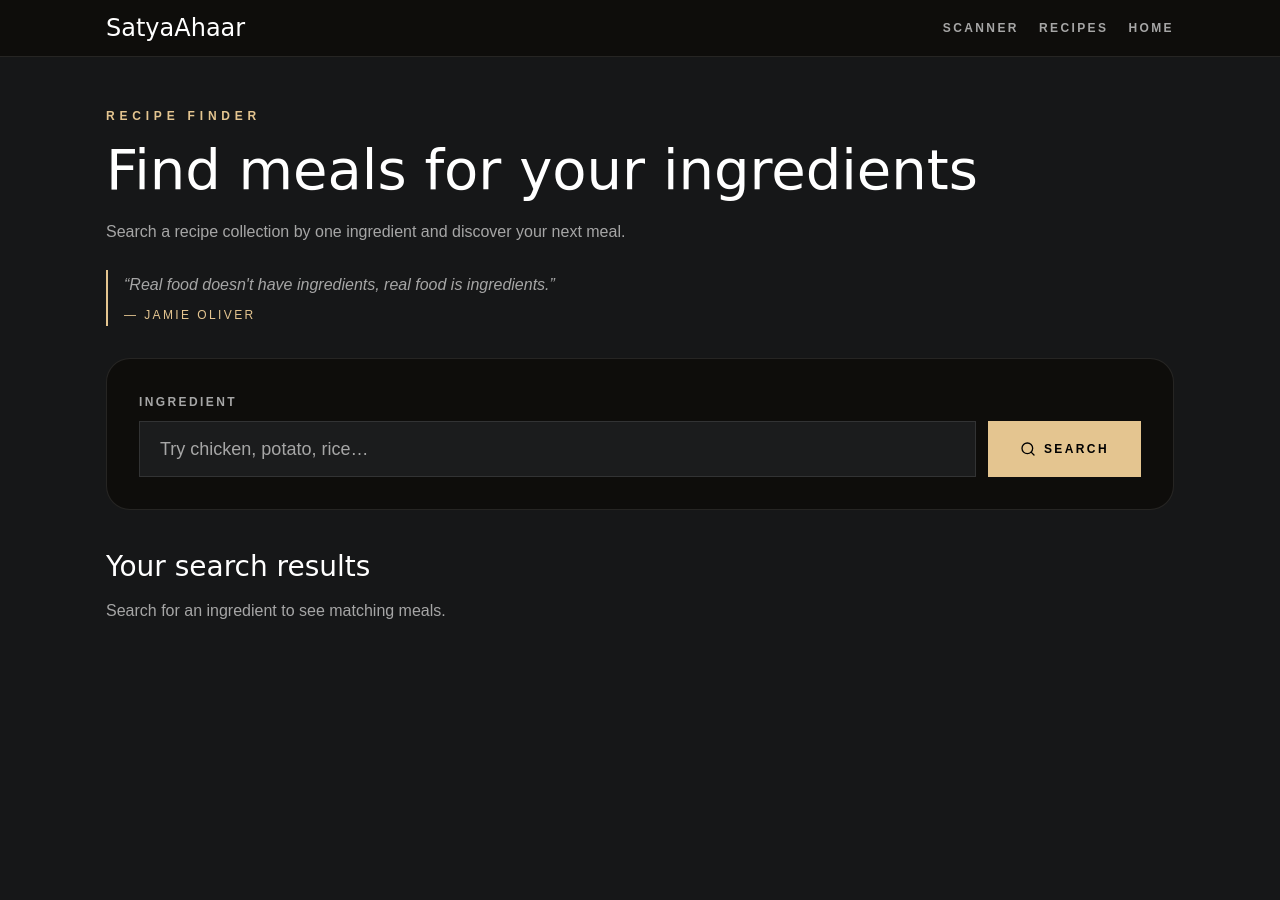
Test: RecipeSearchPage › shows an empty state when no meals match
This screenshot has width=1280, height=900.
Step 1. Type "dragonfruit" into the field labelled "Ingredient" → [557, 449], box x1=139 y1=421 x2=976 y2=477
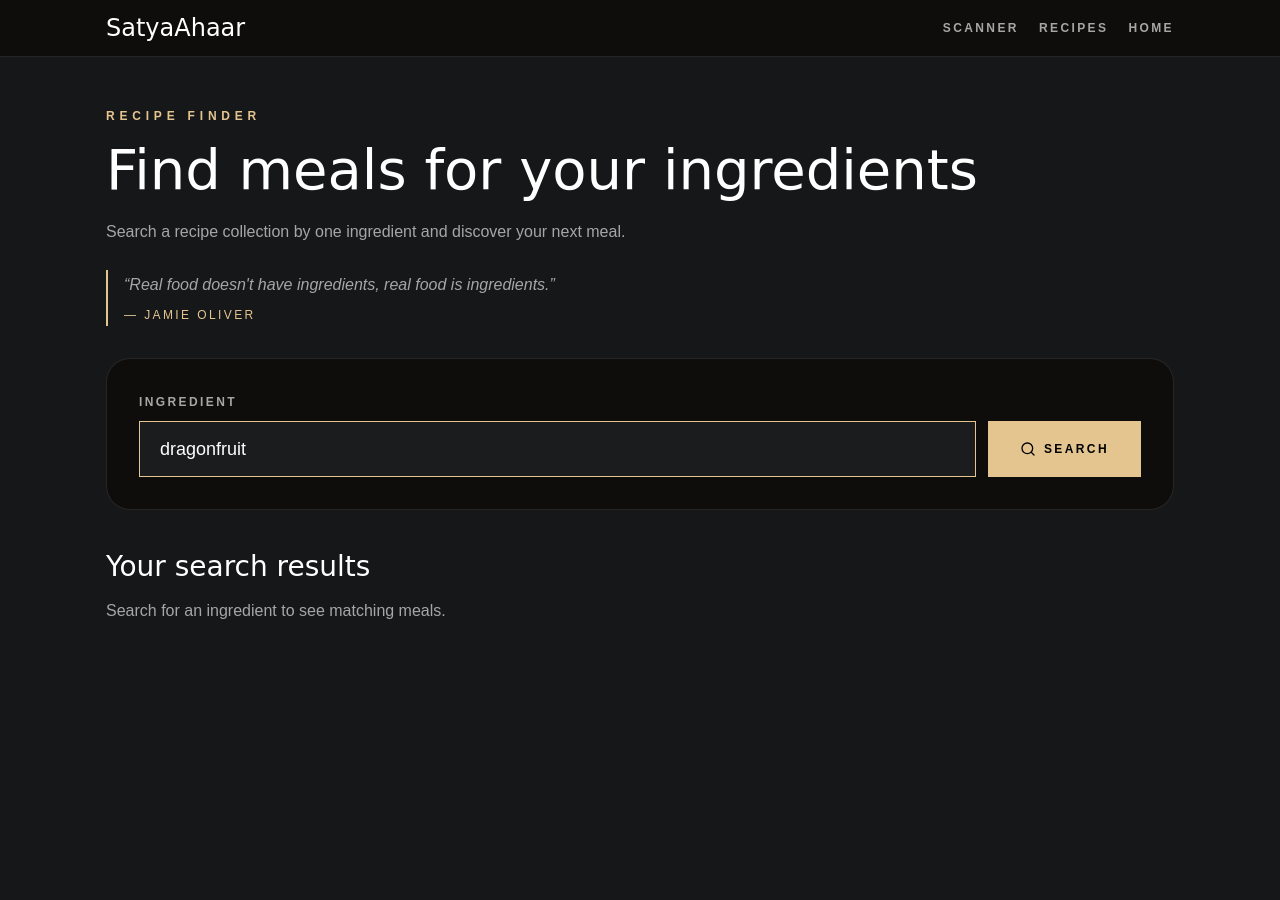
Step 2. Click the button "Search" → [1064, 449], box x1=988 y1=421 x2=1141 y2=477
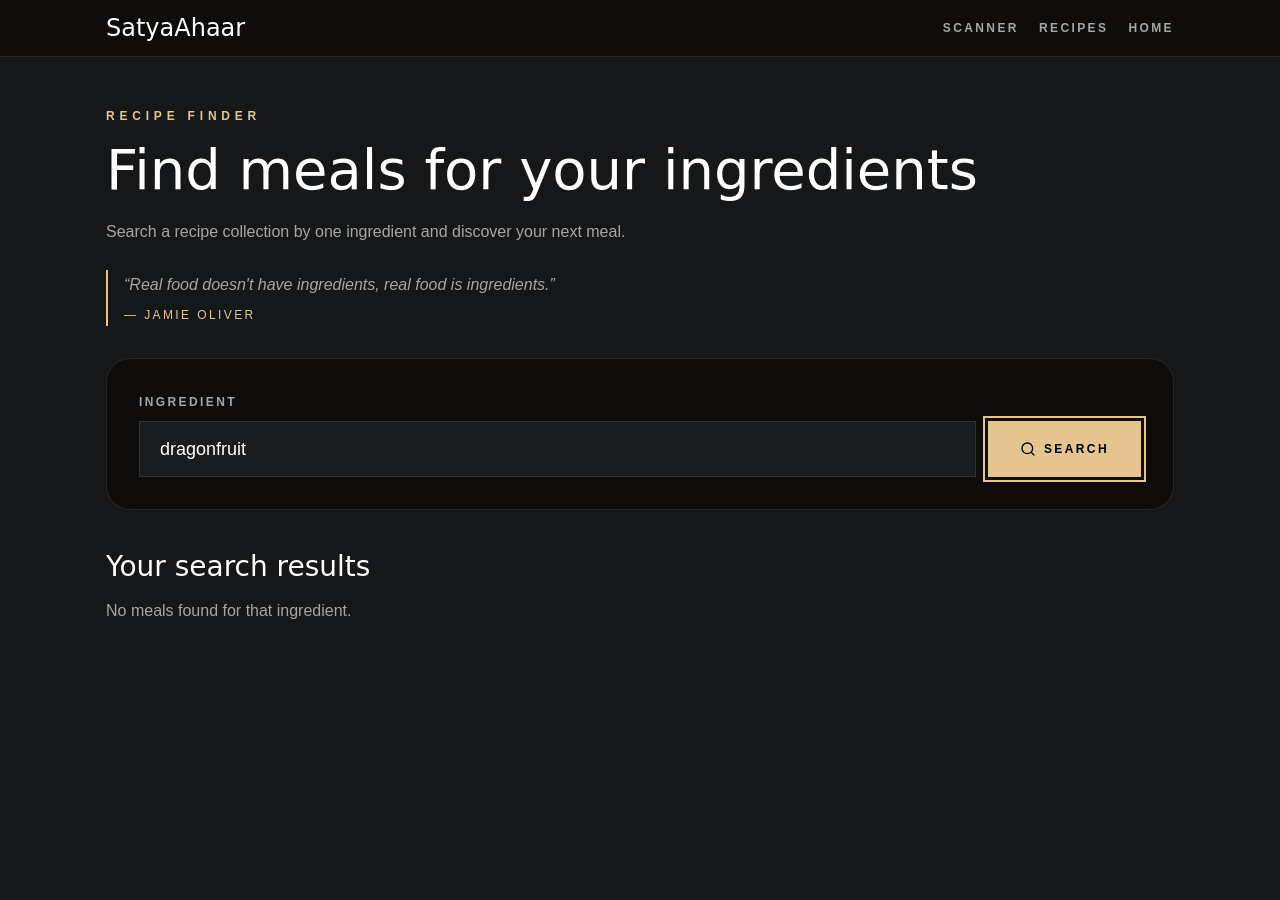
Expected: the text "No meals found for that ingredient." is shown, x1=106 y1=602 x2=352 y2=619
